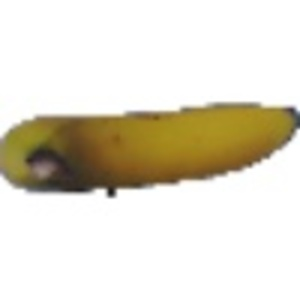banana: (1, 105, 294, 192)
